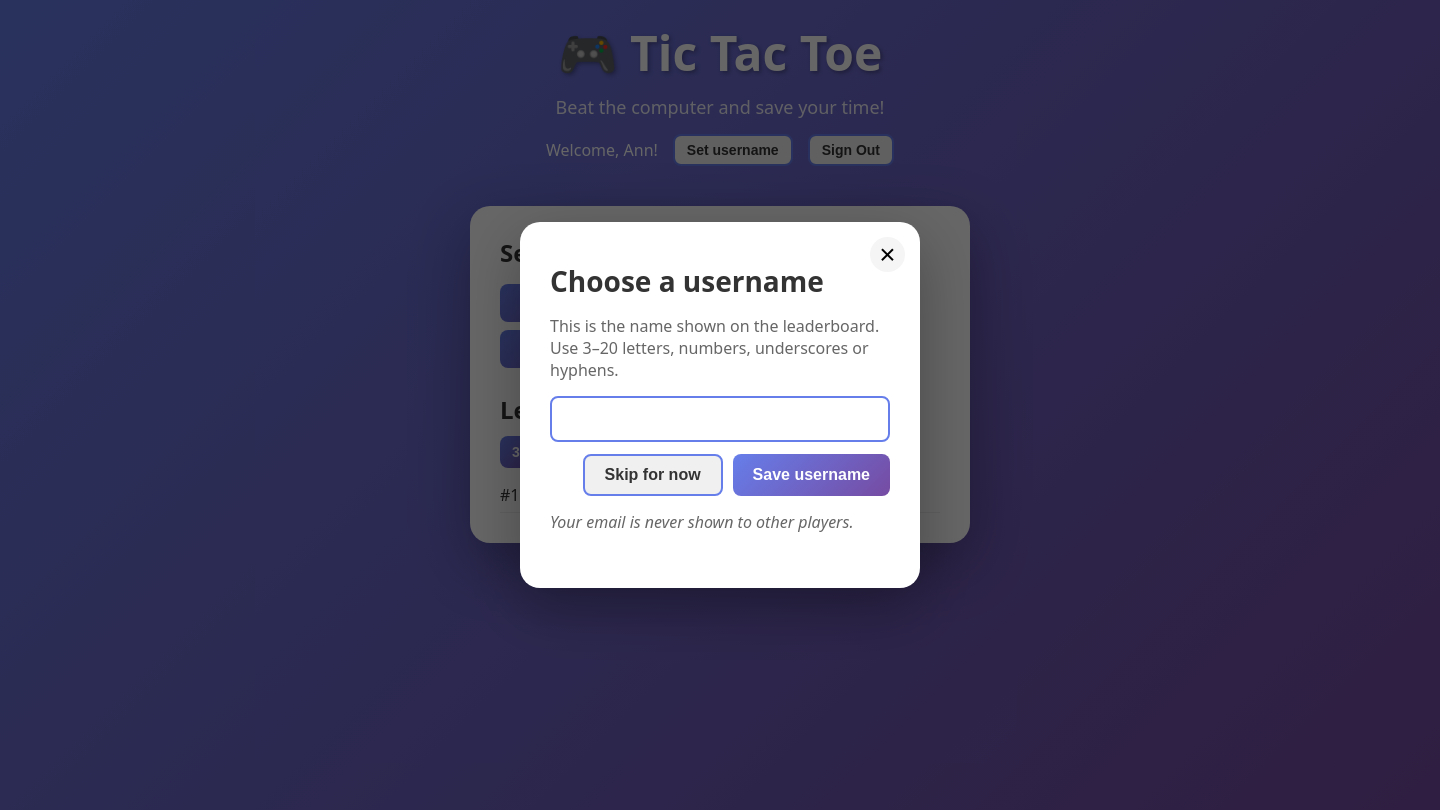
Test case: App: choosing a username › shows the server's message when the username is taken, and stays open
This screenshot has width=1440, height=810.
Type "Taken" into the field named "Username".
click(720, 419); type("Taken")  # box x1=550 y1=396 x2=890 y2=442
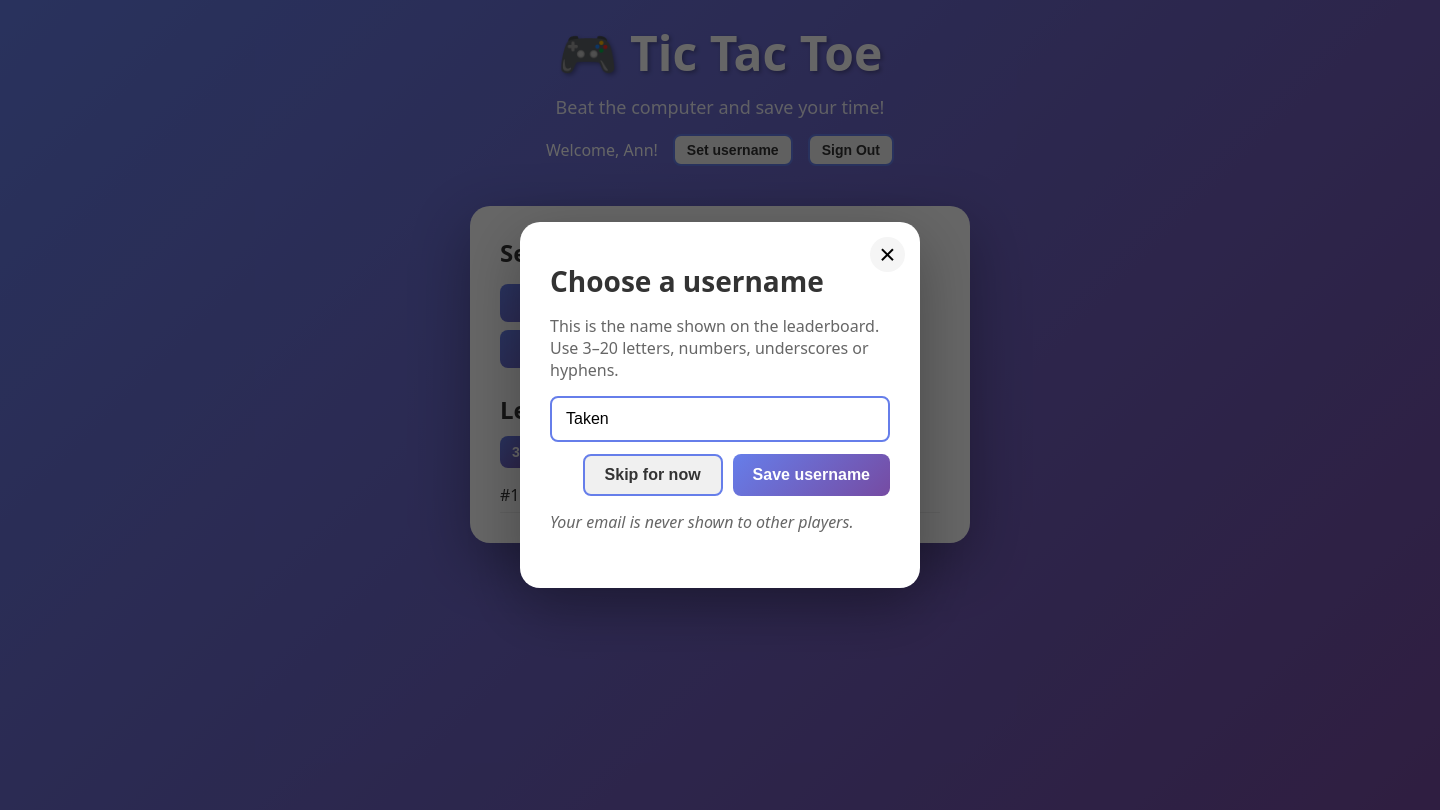
Click the button "Save username".
click(811, 475)  # box x1=733 y1=454 x2=890 y2=496
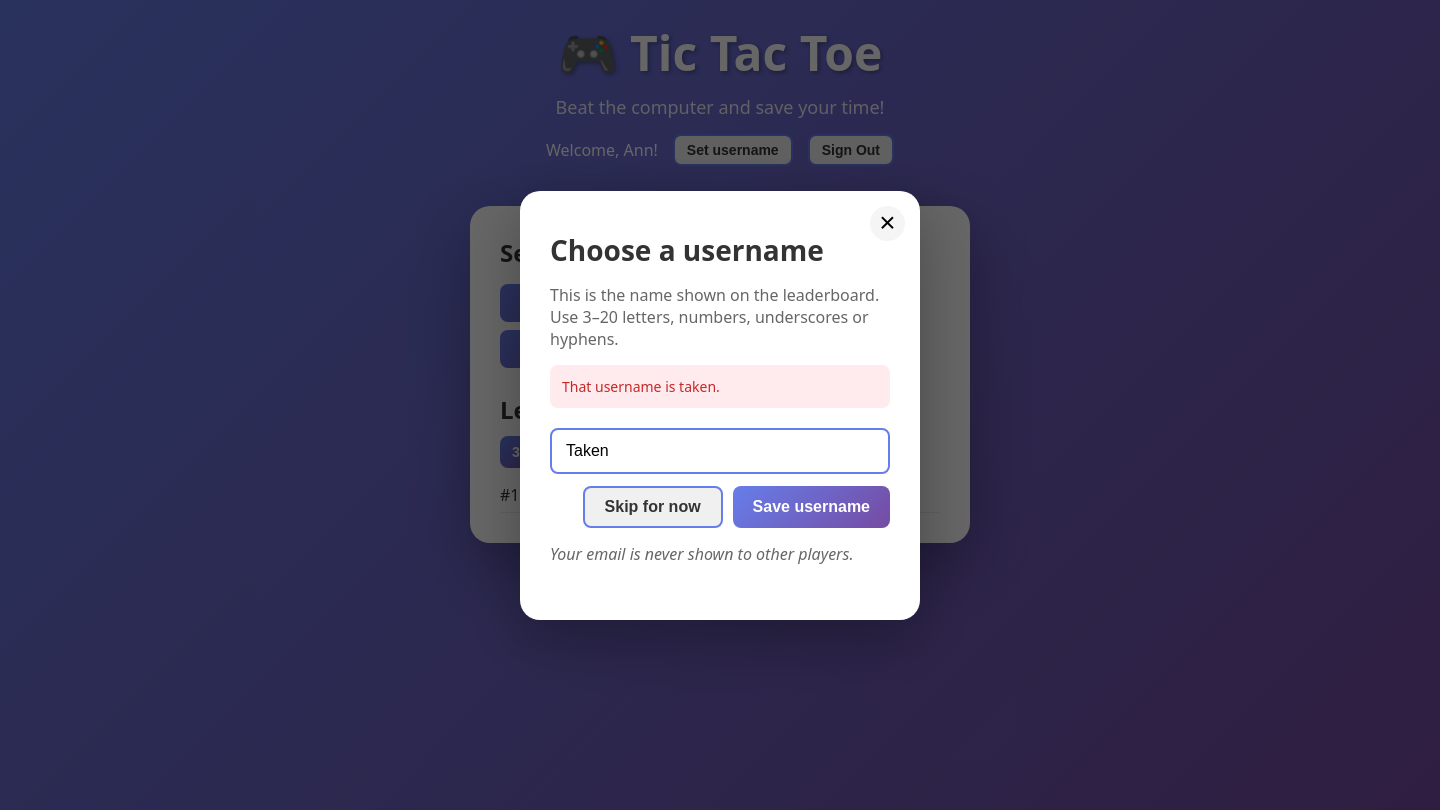
expect the heading "Choose a username" is shown: met, box x1=550 y1=230 x2=824 y2=268
expect the message reads "That username is taken.": met, box x1=562 y1=376 x2=720 y2=396
